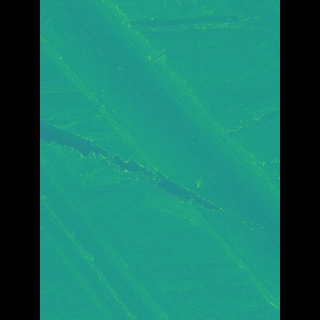Loch: (69, 0, 250, 314), (69, 141, 178, 319), (68, 117, 216, 214)
